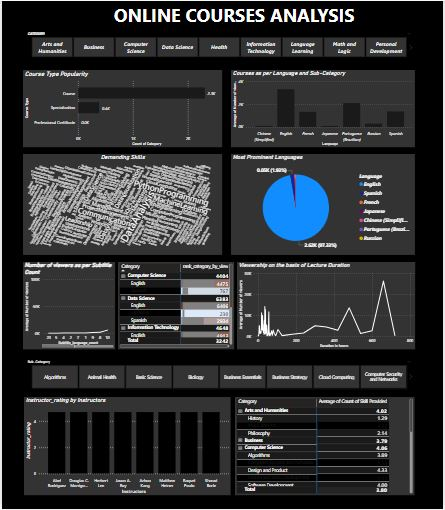

The page's visual inventory and layout, read from the dashboard file:
{"tool":"powerbi","page":{"name":"Page 1","canvas":[1300,1500],"ordinal":0},"visuals":[{"type":"textbox","box":[281.5,0,809.3,85.5],"z":0},{"type":"slicer","fields":{"Values":["Online_Courses.Category"]},"box":[61.7,85,1156.7,86.7],"z":1000},{"type":"barChart","title":"Course Type Popularity","fields":{"Y":["Online_Courses.Category"],"Category":["Online_Courses.Course Type"]},"box":[61.7,203.3,588.3,228.3],"z":2000},{"type":"columnChart","title":"Courses as per Language and Sub-Category","fields":{"Category":["Online_Courses.Language","Online_Courses.Sub-Category"],"Y":["Online_Courses.Number of viewers"]},"box":[675,203.3,543.3,228.3],"z":3000},{"type":"WordCloud1447959067750","title":"Demanding Skills","fields":{"Category":["Online_Courses.Skills"]},"box":[61.7,451.7,588.3,298.3],"z":4000},{"type":"pieChart","title":"Most Prominent Languages","fields":{"Y":["Online_Courses.CourseId"],"Category":["Online_Courses.Language"]},"box":[675,451.7,543.3,298.3],"z":5000},{"type":"pivotTable","fields":{"Rows":["Online_Courses.Category","Online_Courses.Language"],"Values":["Online_Courses.rank_category_by_view"]},"box":[343.3,771.7,343.3,258.3],"z":6000},{"type":"lineChart","title":"Number of viewers as per Subtitle Count","fields":{"Category":["Online_Courses.Subtitle_language_count"],"Y":["Online_Courses.Number of viewers"]},"box":[62,772,272,258],"z":7000},{"type":"clusteredColumnChart","fields":{"Category":["Teachers.Instructors"],"Y":["Teachers.Instructor_rating"]},"box":[65,1170,610,290],"z":8000},{"type":"slicer","fields":{"Values":["Teachers.Sub-Category"]},"box":[61.7,1053.3,1156.7,96.7],"z":9000},{"type":"lineChart","title":"Viewership on the basis of Lecture Duration","fields":{"Category":["Online_Courses.Duration in hours"],"Y":["Online_Courses.Number of viewers"]},"box":[694,770,526,258],"z":10000},{"type":"pivotTable","fields":{"Rows":["Online_Courses.Category","Online_Courses.Sub-Category"],"Values":["Online_Courses.Count of Skill Provided"]},"box":[688,1170,530,290],"z":11000}]}

Visuals, with their boxes in screenshot pixels (x1, y1, x2, y2), scaled from the page's 1300x1500 canvas onto the 445x510 screenshot:
textbox: left=96, top=0, right=373, bottom=29
slicer - Online_Courses.Category: left=21, top=29, right=417, bottom=58
"Course Type Popularity" barChart: left=21, top=69, right=222, bottom=147
"Courses as per Language and Sub-Category" columnChart: left=231, top=69, right=417, bottom=147
"Demanding Skills" WordCloud1447959067750: left=21, top=154, right=222, bottom=255
"Most Prominent Languages" pieChart: left=231, top=154, right=417, bottom=255
pivotTable - Online_Courses.Category x Online_Courses.Language: left=118, top=262, right=235, bottom=350
"Number of viewers as per Subtitle Count" lineChart: left=21, top=262, right=114, bottom=350
clusteredColumnChart - Teachers.Instructors x Teachers.Instructor_rating: left=22, top=398, right=231, bottom=496
slicer - Teachers.Sub-Category: left=21, top=358, right=417, bottom=391
"Viewership on the basis of Lecture Duration" lineChart: left=238, top=262, right=418, bottom=350
pivotTable - Online_Courses.Category x Online_Courses.Sub-Category: left=236, top=398, right=417, bottom=496
